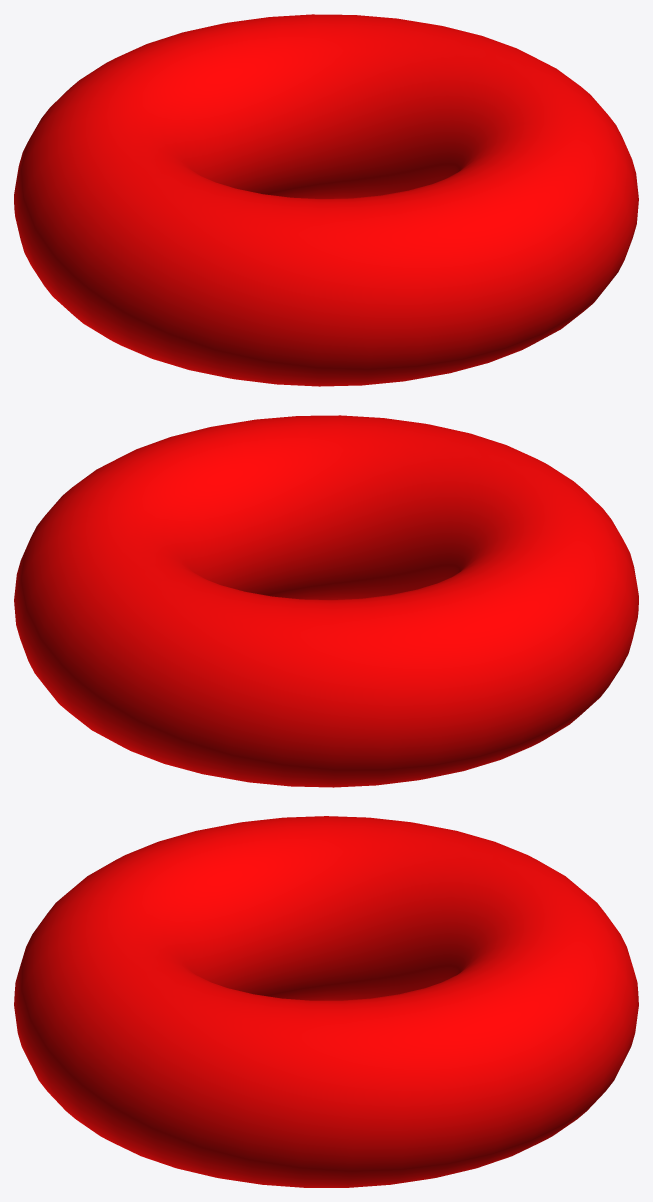
The model's file is RedRing.dae.
The picture shows the model from 3 angles, top to bottom: view 1: azimuth 30°, elevation 25°; view 2: azimuth 150°, elevation 25°; view 3: azimuth 270°, elevation 25°; orthographic projection.
Parts seen in each view (by area): view 1: ID2; view 2: ID2; view 3: ID2.
Boxes of the visible parts, x1,y1,x2,y2 form: ID2: [14, 14, 638, 386]; ID2: [14, 415, 638, 787]; ID2: [14, 816, 638, 1187].
Bounding box in the file's own units: 0.0952 × 0.0952 × 0.0285.
